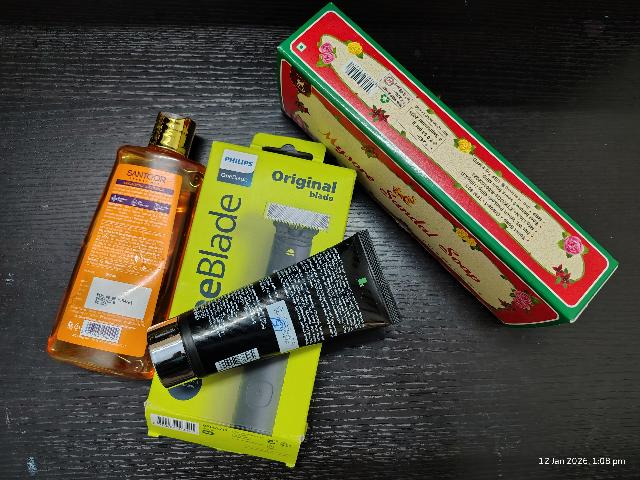jovees herbal: (146, 230, 420, 391)
mysore sandal soap: (269, 21, 630, 323)
phillips oneblade: (192, 128, 355, 253)
santoor bodywash: (49, 107, 203, 388)
